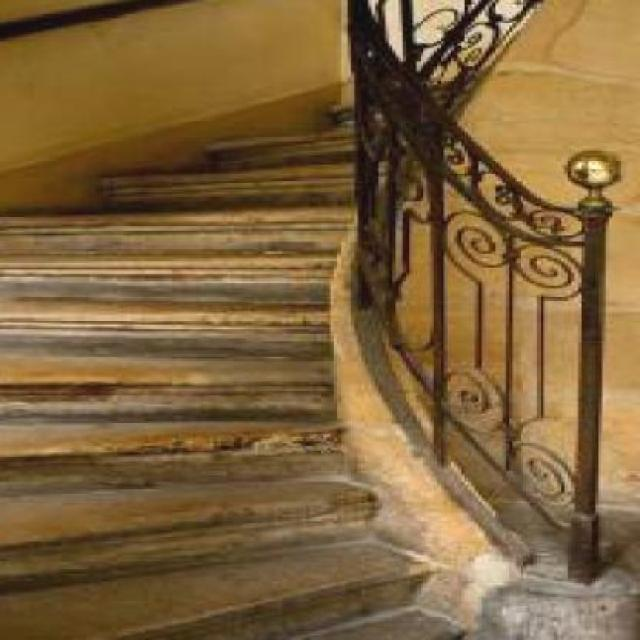stair: (3, 0, 598, 638)
